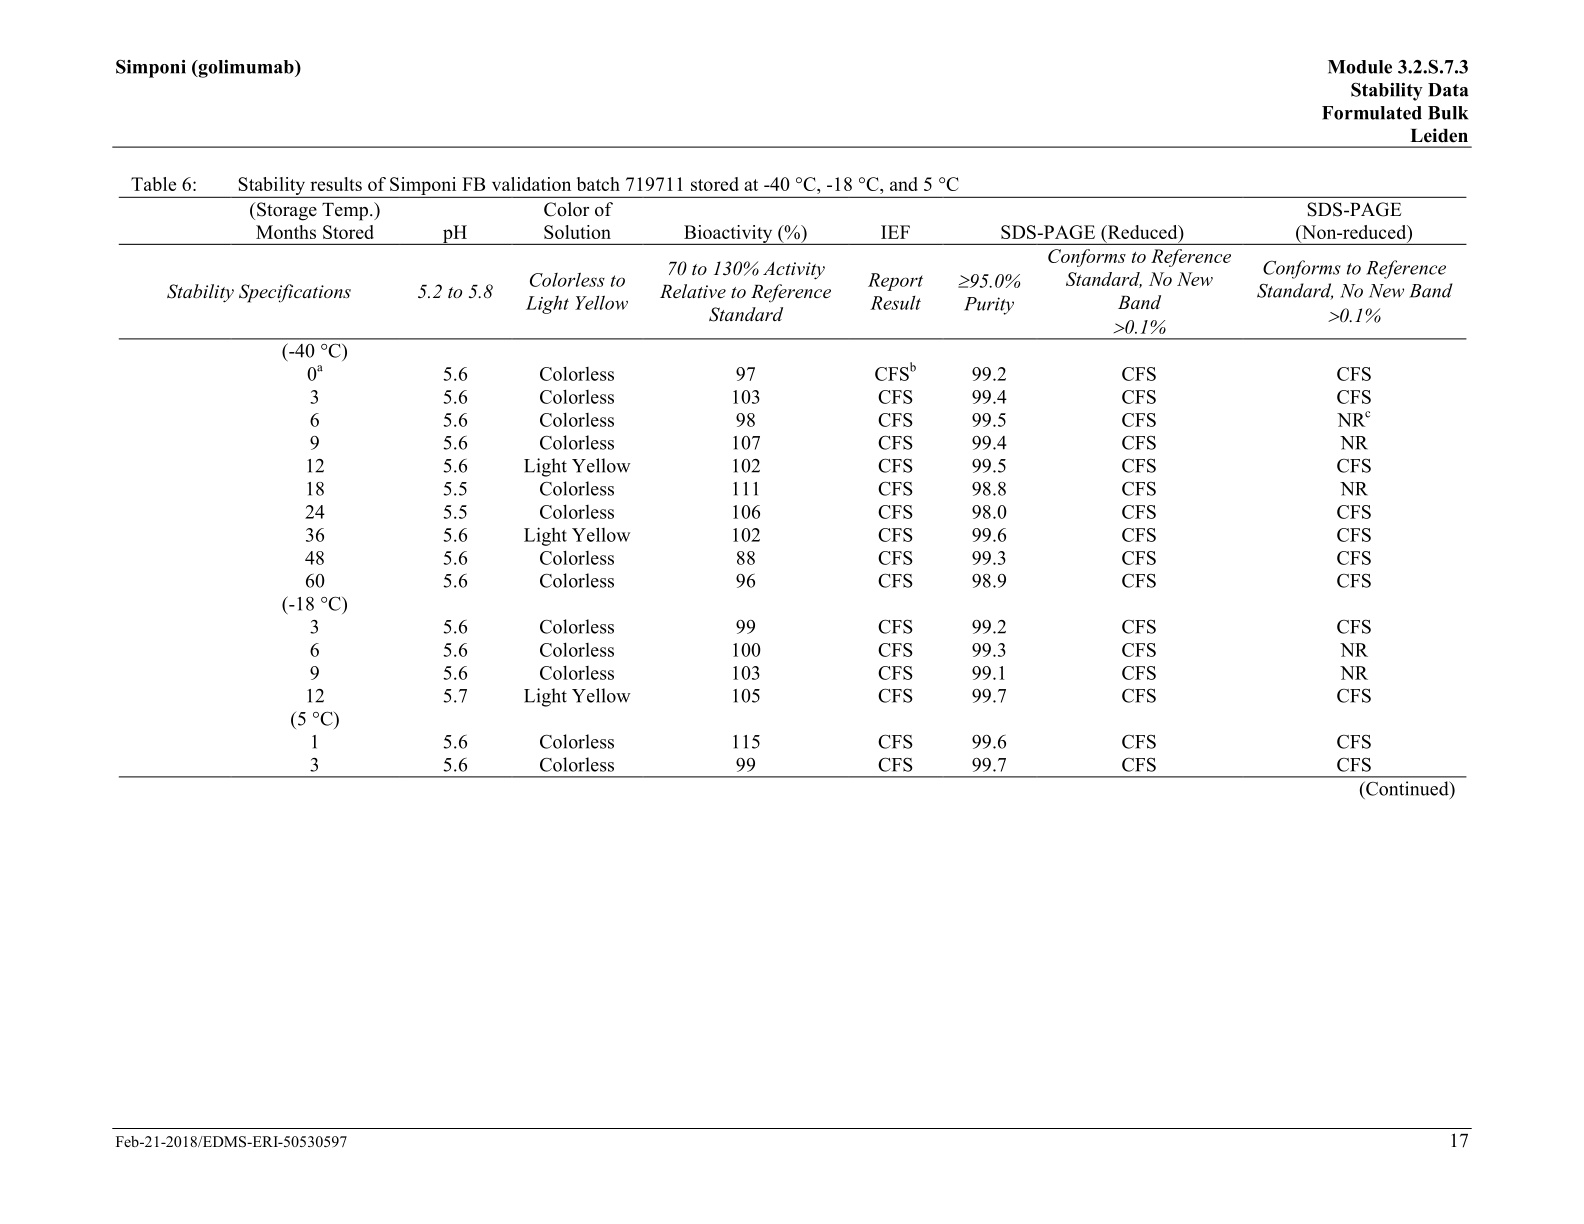partial_lined: (120, 195, 1467, 778)
